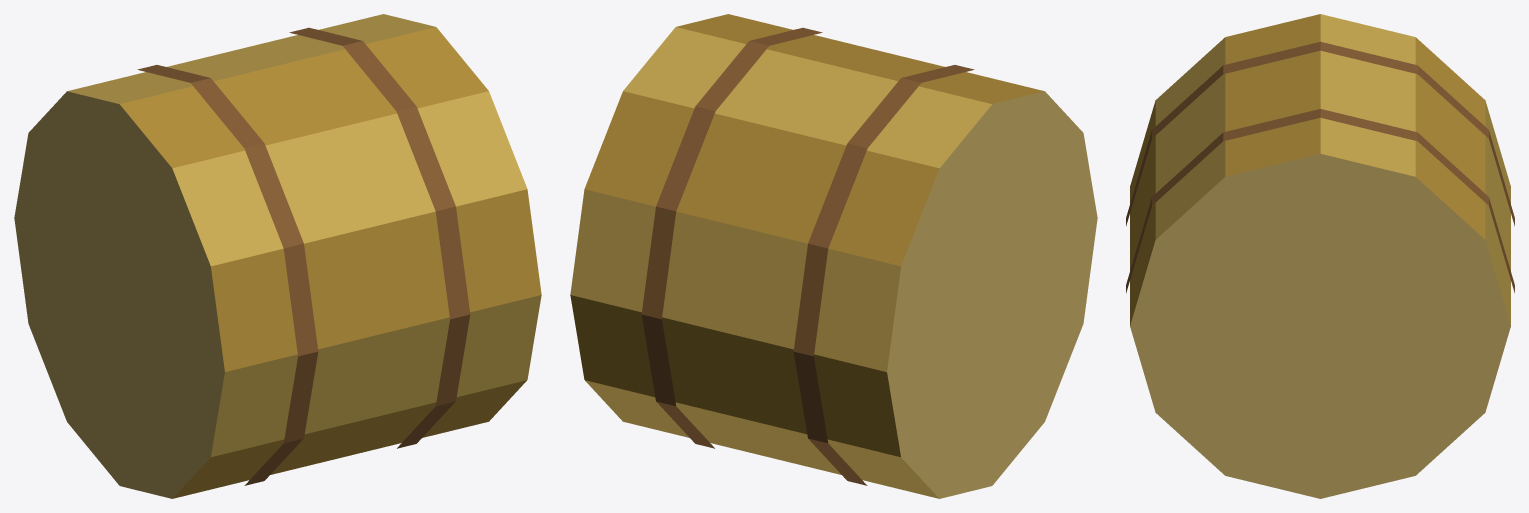
Rendered from sn_hay.glb.
3 views of the same model, side by side, from view 1: azimuth 30°, elevation 25°; view 2: azimuth 150°, elevation 25°; view 3: azimuth 270°, elevation 25° (orthographic). The views are drawn at different scales.
Parts seen in each view (by area): view 1: sn_hay; view 2: sn_hay; view 3: sn_hay.
Boxes of the visible parts, x1,y1,x2,y2 form: sn_hay: (14,14,541,498); sn_hay: (570,14,1097,498); sn_hay: (1126,14,1514,498).
Size of the model in its own units: 1.25 by 1.47 by 1.47.
